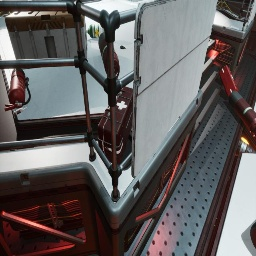0: (86, 24, 105, 38)
FireExtinguisher ]: (4, 68, 31, 111)
FirstAidBox ,: (98, 86, 133, 165), (219, 65, 238, 98)
NitrogenTank ,: (228, 90, 256, 136), (98, 32, 120, 79), (250, 222, 256, 249)
